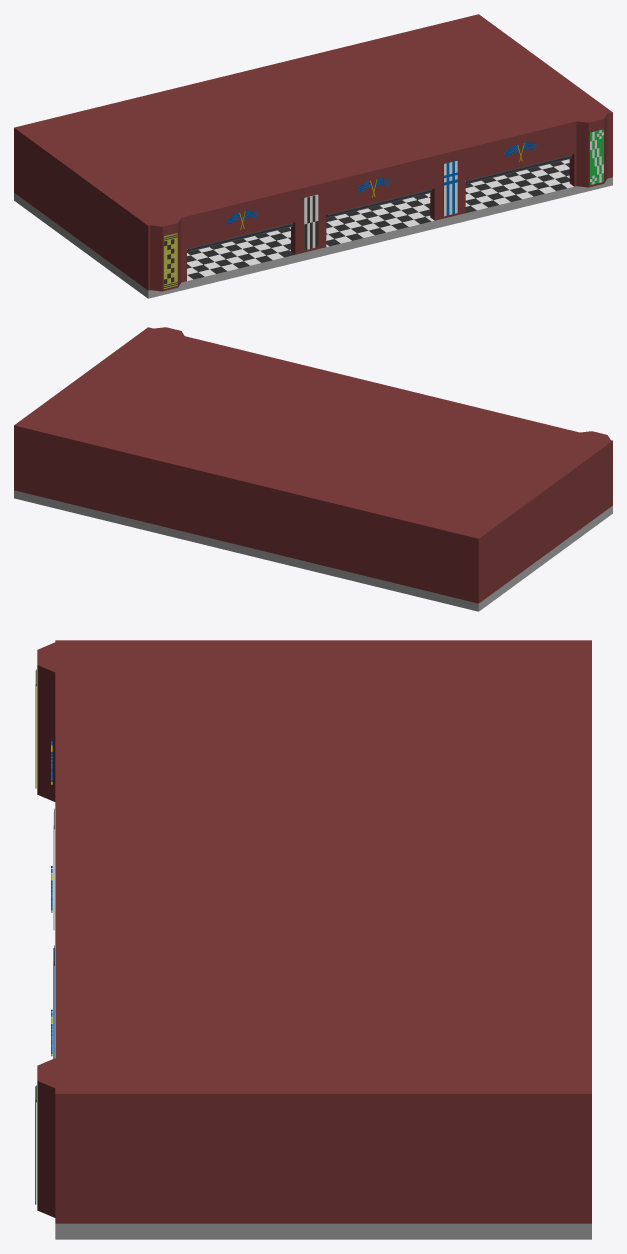
The model's file is Tienda de automovilismo.fbx.
3 renders of one model, top to bottom at view 1: azimuth 30°, elevation 25°; view 2: azimuth 150°, elevation 25°; view 3: azimuth 270°, elevation 25°, orthographic. The views are drawn at different scales.
Parts seen in each view (by area): view 1: Pared_1x10x72, Pared_1x10x76, Pared_1x10x73, Pared_1x10x26, polySurface21, polySurface31, Pared_31x10x9, Pared_31x10x10, Pared_31x10x19, Pared_31x10x18, Esquina_1x10x39, Esquina_1x10x1 (+3 smaller); view 2: Pared_1x10x72, Pared_1x10x56, Pared_1x10x26, Pared_1x10x76, Esquina_1x10x1, Esquina1_1x10x1, Esquina_1x10x39; view 3: Pared_1x10x72, Pared1_1x10x26, Pared_1x10x76, Esquina1_1x10x1, Esquina1_1x10x2, polySurface31, polySurface21.
Part boxes in pixels (bbox=[...]): Pared_1x10x72: bbox=[14, 14, 612, 233]; Pared_1x10x76: bbox=[14, 159, 612, 298]; Pared_1x10x73: bbox=[181, 129, 576, 282]; Pared_1x10x26: bbox=[23, 142, 139, 283]; polySurface21: bbox=[150, 218, 181, 291]; polySurface31: bbox=[576, 114, 607, 187]; Pared_31x10x9: bbox=[304, 194, 318, 250]; Pared_31x10x10: bbox=[443, 160, 457, 216]; Pared_31x10x19: bbox=[589, 129, 603, 184]; Pared_31x10x18: bbox=[163, 233, 177, 288]; Esquina_1x10x39: bbox=[139, 227, 150, 290]; Esquina_1x10x1: bbox=[14, 136, 22, 198]; Pared_1x10x72: bbox=[14, 327, 612, 546]; Pared_1x10x56: bbox=[29, 437, 463, 599]; Pared_1x10x26: bbox=[487, 455, 603, 596]; Pared_1x10x76: bbox=[14, 490, 612, 611]; Esquina_1x10x1: bbox=[463, 541, 487, 603]; Esquina1_1x10x1: bbox=[14, 433, 29, 493]; Esquina_1x10x39: bbox=[604, 449, 612, 511]; Pared_1x10x72: bbox=[55, 640, 591, 1109]; Pared1_1x10x26: bbox=[91, 1110, 555, 1223]; Pared_1x10x76: bbox=[55, 1223, 591, 1239]; Esquina1_1x10x1: bbox=[556, 1110, 591, 1223]; Esquina1_1x10x2: bbox=[55, 1110, 90, 1223]; polySurface31: bbox=[37, 1058, 55, 1217]; polySurface21: bbox=[37, 642, 55, 801].
Bounding box in the file's own units: 60 × 9 × 31.13.
